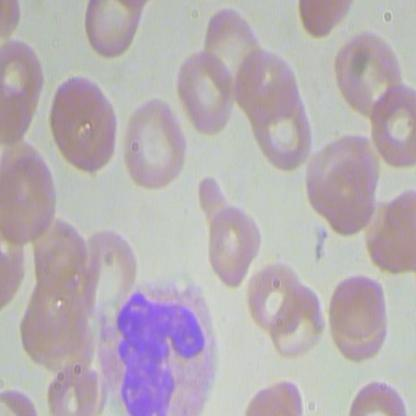RBC: (189, 169, 265, 289), (330, 24, 407, 124), (49, 74, 121, 177), (120, 91, 187, 197), (325, 271, 396, 361), (311, 149, 374, 237), (252, 83, 315, 171), (175, 47, 238, 134), (1, 147, 58, 242), (270, 279, 326, 361), (83, 1, 144, 62)
WBC: (93, 271, 221, 415)
